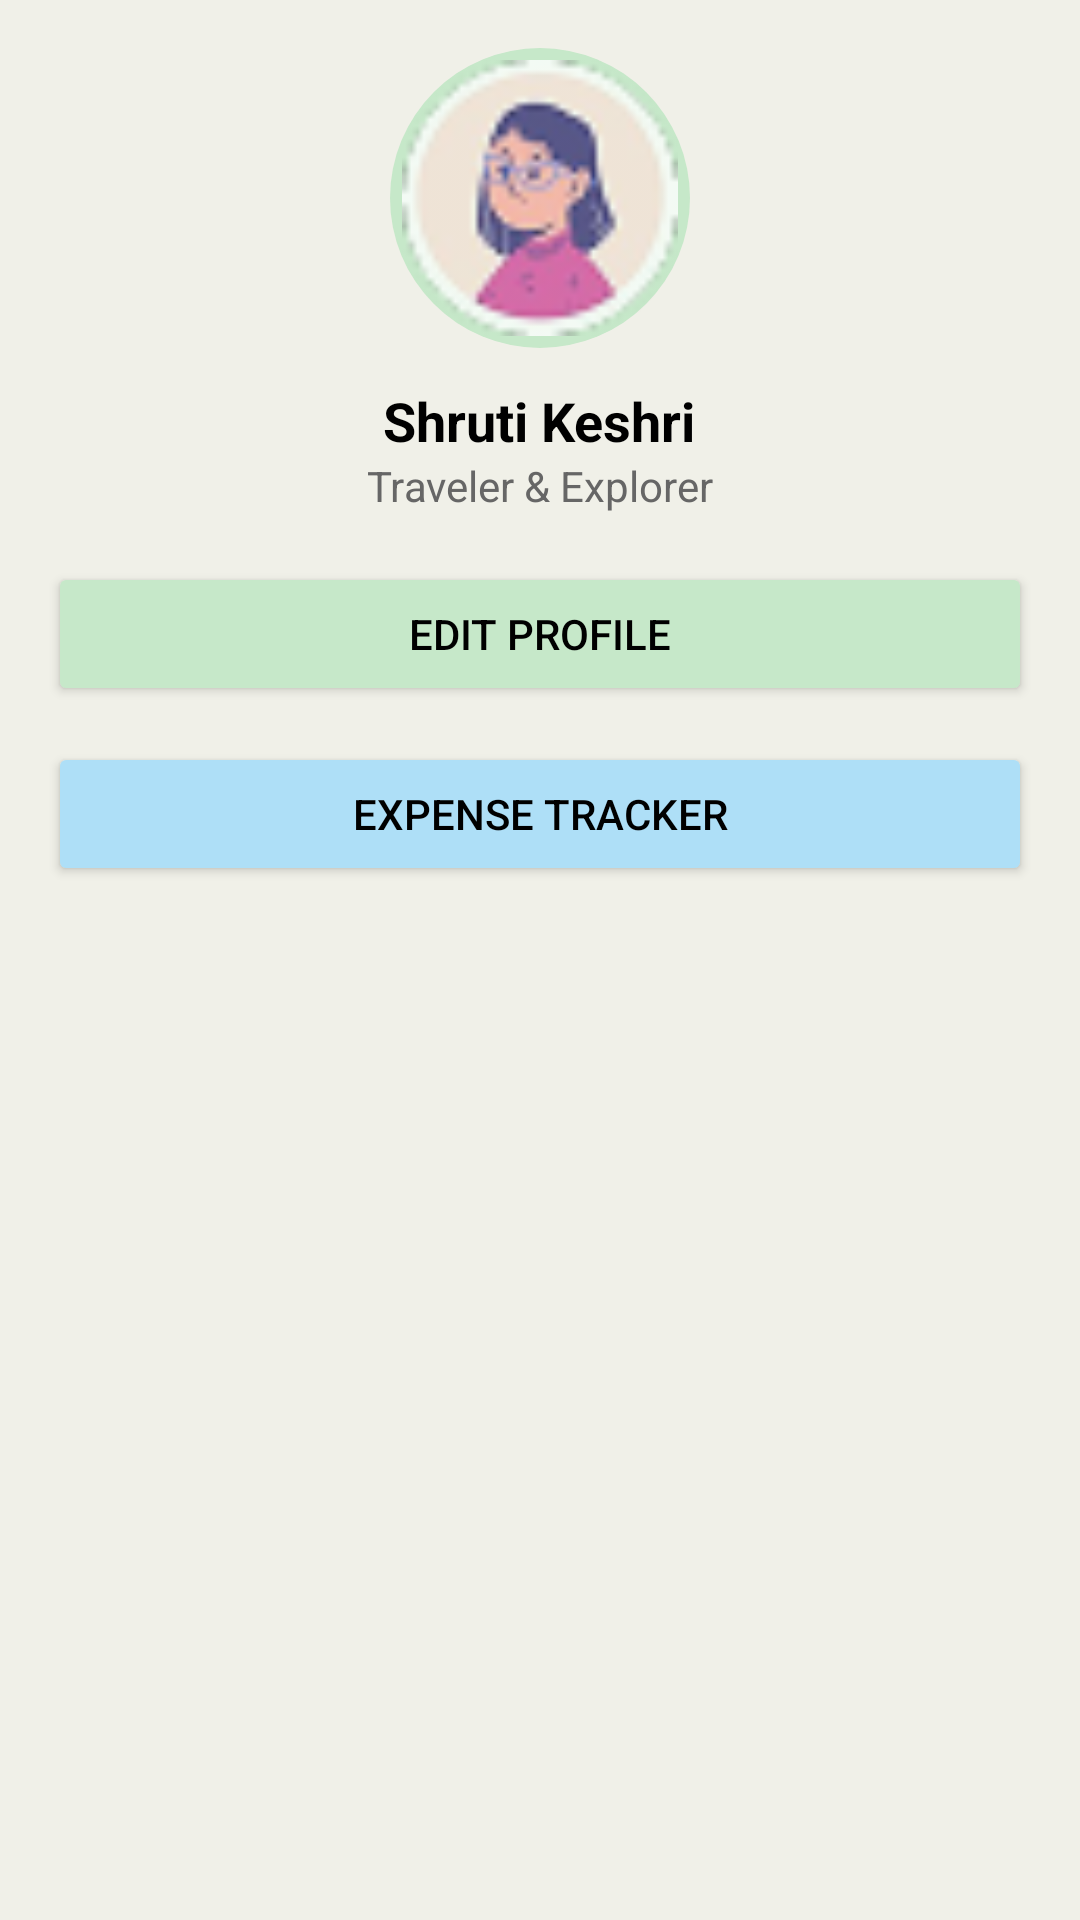

Icon bounding boxes for this 1080px×1920px phone screenshot, format (x1, y1, x2, y2):
profile: (390, 48, 690, 348)
